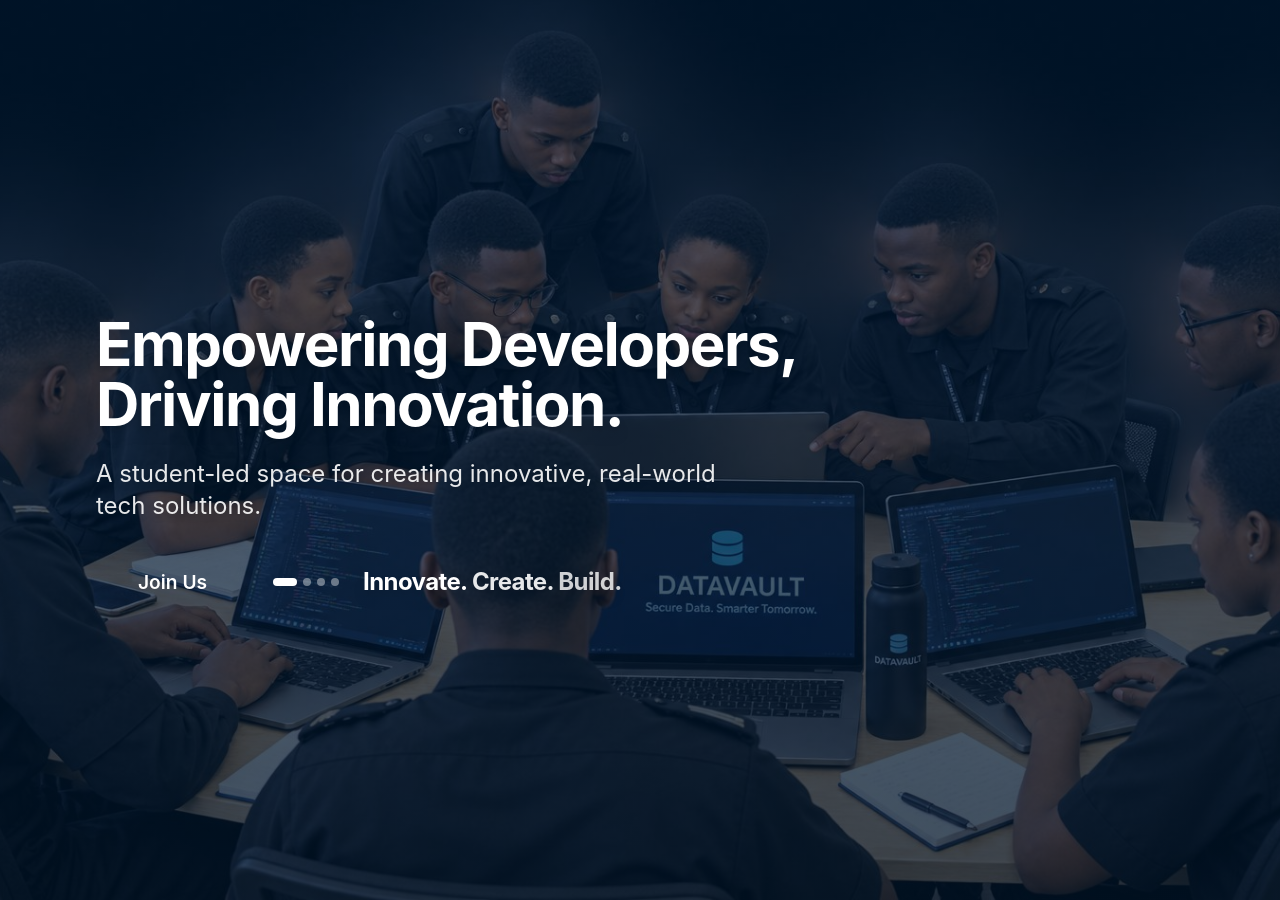
Test: <HeroSection /> rotating headline › clicking a dot jumps directly to that slide
Click the button named "Show message 4 of 4" at (335, 582), box [331, 578, 339, 586]
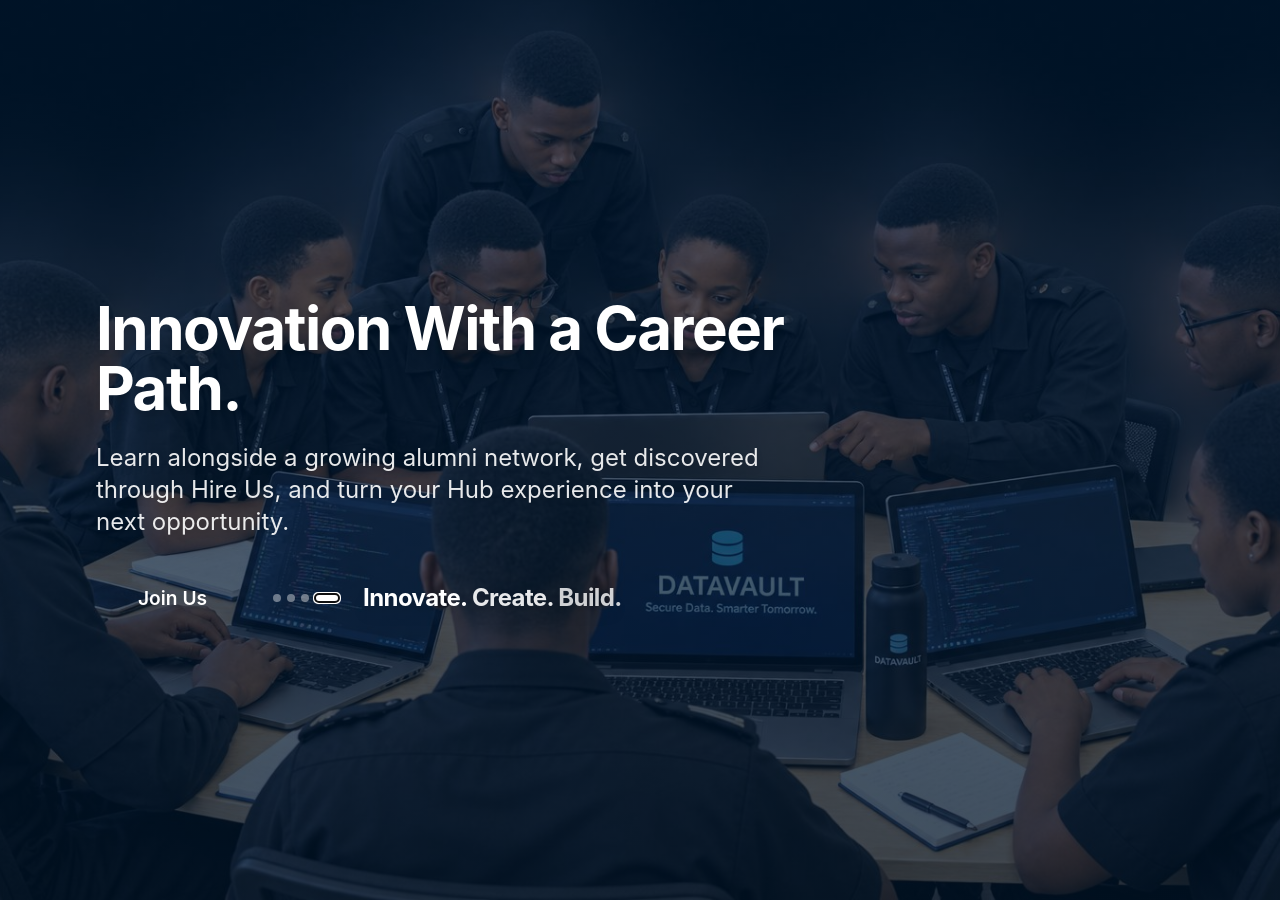
Expected: the heading "Innovation With a Career Path." is shown, [96, 298, 864, 418]
